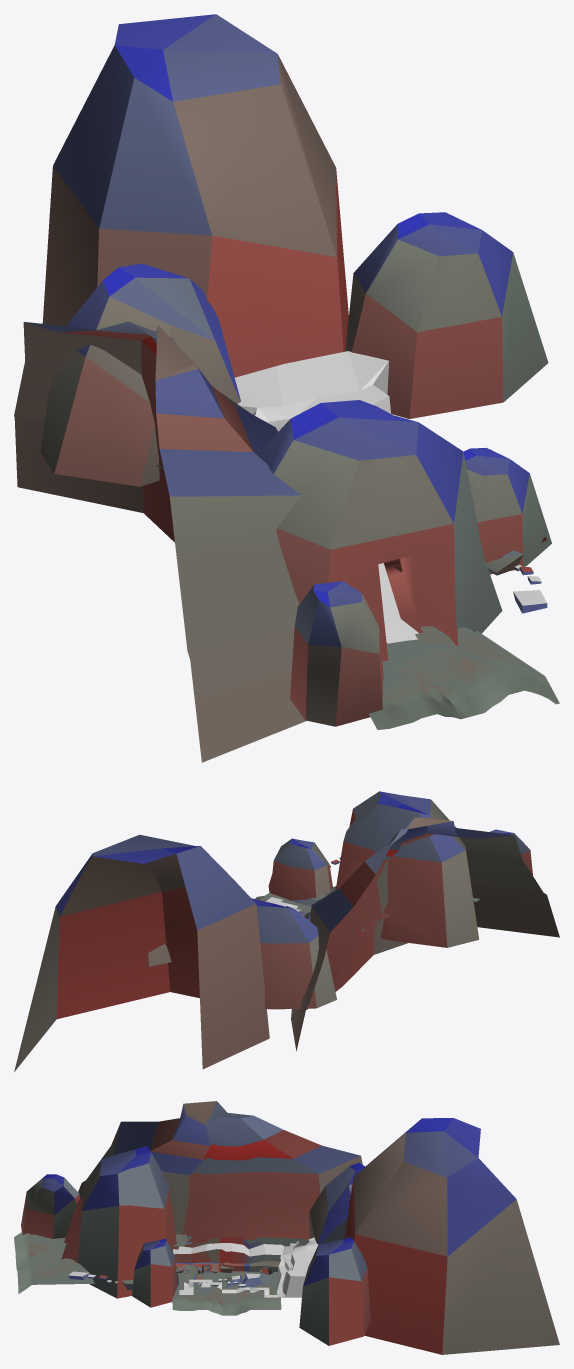
Rendered from level3c.fbx.
3 views of the same model, one above another, from view 1: azimuth 30°, elevation 25°; view 2: azimuth 150°, elevation 25°; view 3: azimuth 270°, elevation 25° (orthographic). The views are drawn at different scales.
Parts seen in each view (by area): view 1: SideCliff, Plane, Pathway; view 2: SideCliff; view 3: SideCliff, Plane, Pathway, Boulders, BigRocks, Cliff, pyramids.
Boxes of the visible parts, bbox=[...] form: SideCliff: bbox=[14, 14, 551, 762]; Plane: bbox=[369, 626, 559, 729]; Pathway: bbox=[235, 351, 546, 643]; SideCliff: bbox=[14, 791, 559, 1071]; SideCliff: bbox=[21, 1101, 559, 1354]; Plane: bbox=[14, 1232, 281, 1315]; Pathway: bbox=[68, 1237, 318, 1297]; Boulders: bbox=[145, 1237, 308, 1300]; BigRocks: bbox=[122, 1234, 273, 1290]; Cliff: bbox=[276, 1240, 315, 1297]; pyramids: bbox=[225, 1274, 271, 1287].
Size of the model in its own units: 66037 by 37338 by 101833.
